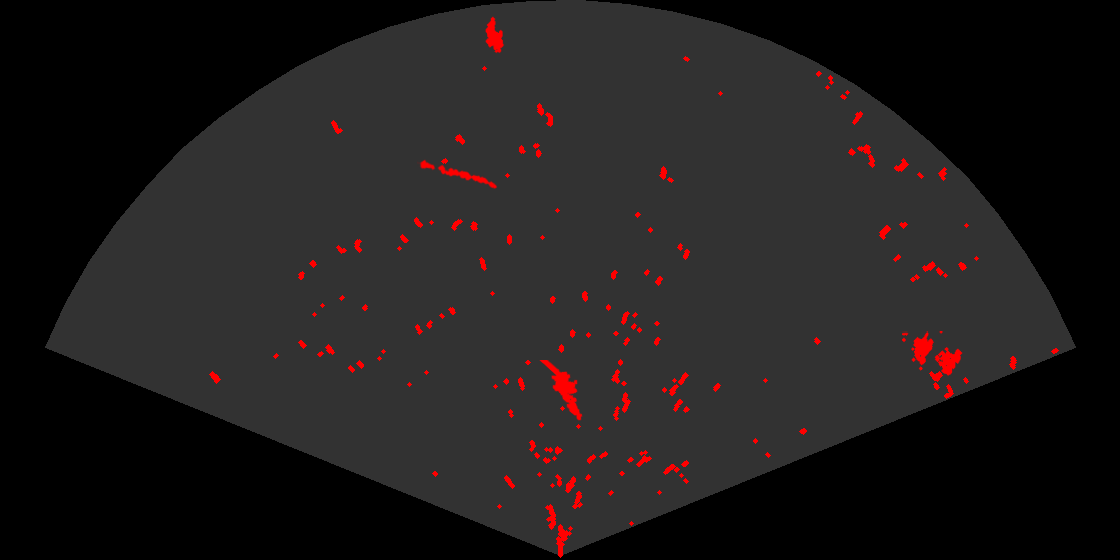AUV: (484, 15, 506, 55)
cage: (902, 331, 964, 377)
chain: (417, 158, 499, 190)
frogman: (538, 360, 584, 422)
